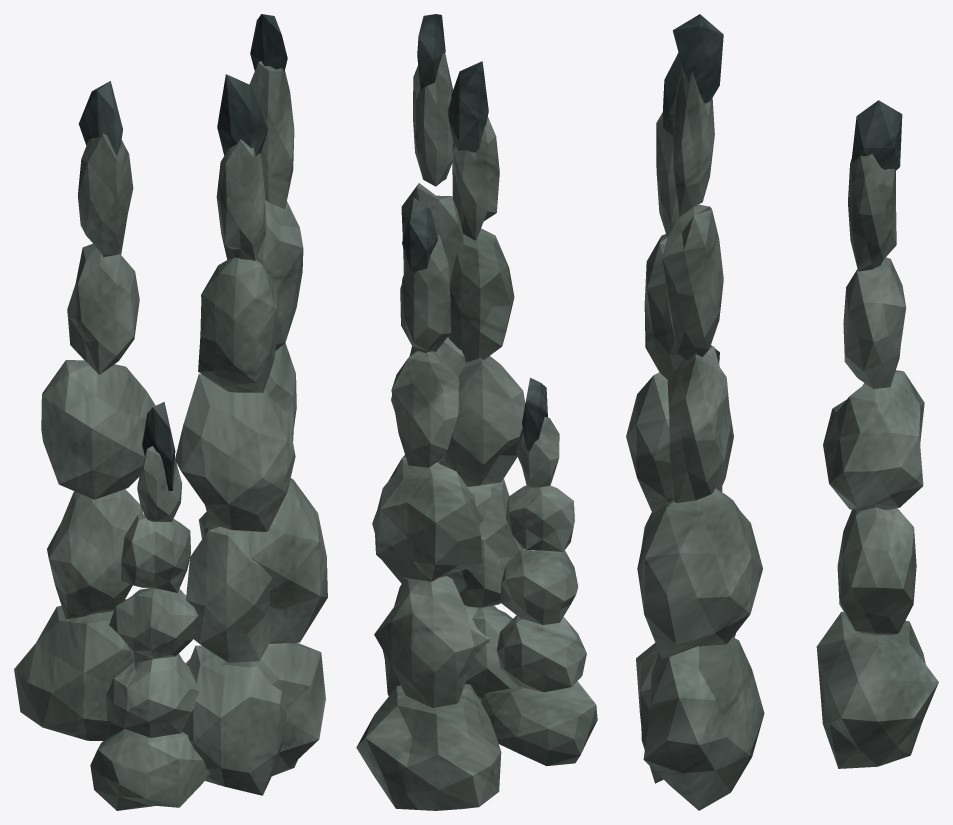
Rendered from 0068_rock_spire_18.glb.
3 renders of one model, left to right at view 1: azimuth 30°, elevation 25°; view 2: azimuth 150°, elevation 25°; view 3: azimuth 270°, elevation 25°, orthographic. The views are drawn at different scales.
Parts seen in each view (by area): view 1: stone, stone_dark; view 2: stone, stone_dark; view 3: stone, stone_dark.
Part boxes in pixels (<box>): stone: <box>14,61,327,810</box>; stone_dark: <box>79,14,287,490</box>; stone: <box>356,53,597,810</box>; stone_dark: <box>402,14,547,451</box>; stone: <box>626,65,938,810</box>; stone_dark: <box>662,14,902,363</box>.
Size of the model in its own units: 1.15 by 3.86 by 1.39.
Materials: 2 (2 with a texture image).
